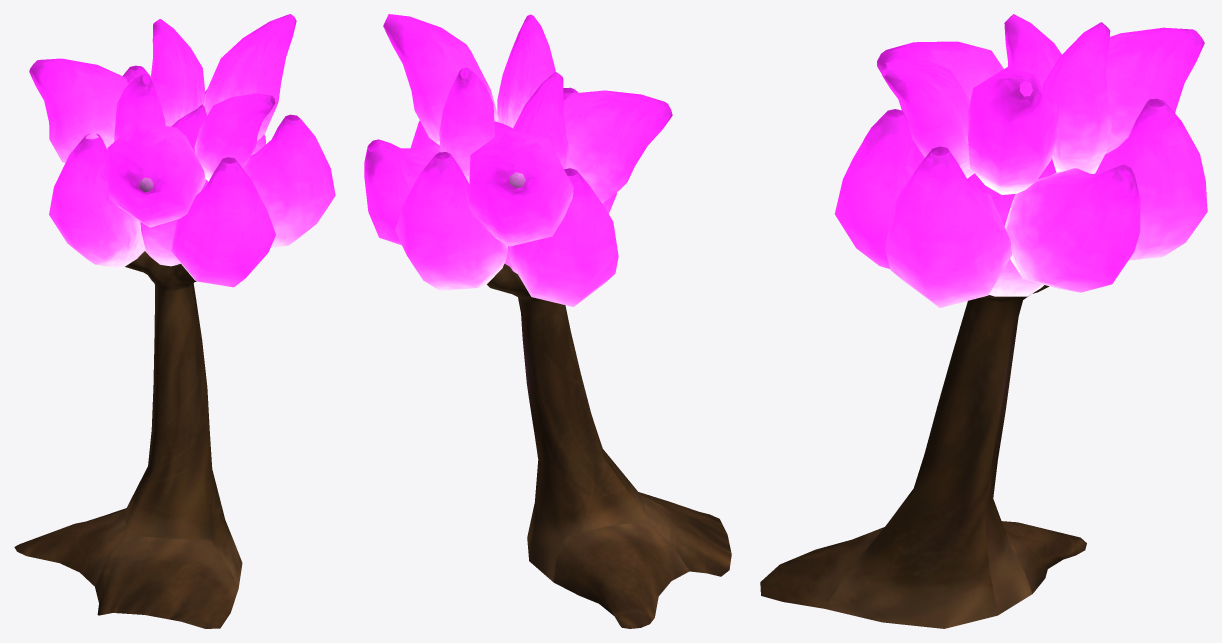
File: Arvores1.fbx
3 views of the same model, side by side, from view 1: azimuth 30°, elevation 25°; view 2: azimuth 150°, elevation 25°; view 3: azimuth 270°, elevation 25° (orthographic). The views are drawn at different scales.
Visible parts, largest first — view 1: Arvore01; view 2: Arvore01; view 3: Arvore01.
Part boxes in pixels (x1,y1,x2,y2): Arvore01: (14,14,335,628); Arvore01: (364,14,731,628); Arvore01: (760,14,1207,628).
Size of the model in its own units: 502 by 915 by 591.
